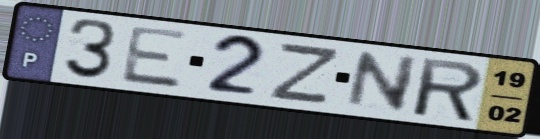2: (199, 34, 274, 101)
3: (63, 18, 120, 82)
E: (118, 24, 193, 91)
N: (342, 50, 422, 115)
R: (412, 55, 487, 124)
Z: (265, 42, 344, 107)
